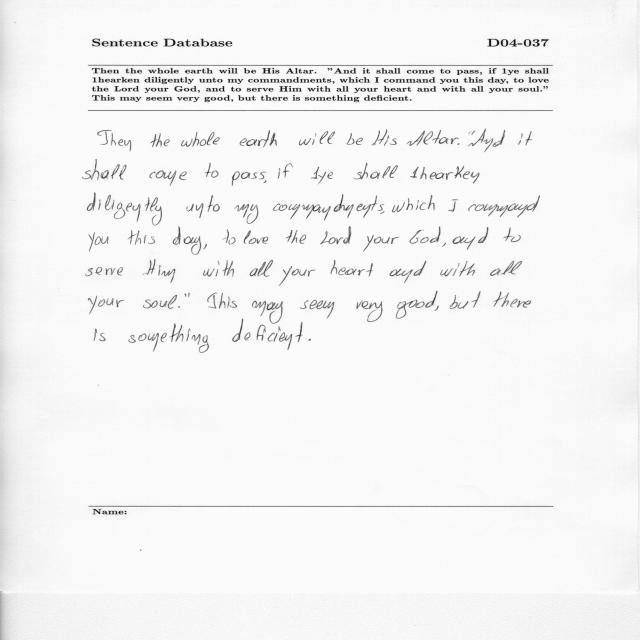word: (273, 194, 384, 221), (128, 323, 209, 353), (87, 193, 162, 225), (233, 323, 303, 350), (468, 195, 540, 218), (396, 291, 438, 319), (410, 166, 479, 183), (242, 301, 283, 324), (83, 160, 127, 181), (469, 129, 506, 152), (406, 130, 459, 146), (453, 227, 489, 250), (173, 226, 201, 255), (390, 261, 426, 283), (186, 196, 220, 219), (300, 300, 334, 323), (392, 195, 435, 213), (143, 259, 175, 283), (354, 163, 398, 180), (279, 266, 316, 286), (98, 130, 131, 151), (331, 260, 373, 276), (240, 130, 277, 148), (89, 296, 124, 314), (149, 170, 187, 186), (493, 292, 531, 308), (181, 132, 220, 147), (363, 235, 399, 251), (440, 261, 475, 277), (320, 227, 351, 245), (450, 291, 481, 309), (357, 301, 383, 322), (410, 227, 441, 244), (203, 260, 234, 277), (232, 171, 266, 186), (299, 131, 335, 145), (235, 204, 259, 224), (490, 261, 522, 276), (143, 295, 177, 309), (371, 129, 397, 146), (209, 293, 238, 308), (128, 230, 155, 245), (89, 232, 109, 252), (250, 260, 273, 277), (311, 167, 333, 184), (244, 230, 268, 244), (86, 267, 123, 276), (150, 133, 170, 147), (286, 230, 306, 244), (503, 228, 521, 242), (222, 230, 236, 245), (346, 133, 363, 145), (518, 131, 532, 145), (205, 163, 218, 178), (178, 293, 190, 308), (282, 163, 293, 178), (94, 329, 106, 341), (448, 199, 459, 212), (207, 293, 217, 302), (434, 305, 439, 311), (278, 168, 280, 178), (203, 244, 207, 249), (442, 242, 446, 247), (380, 211, 384, 214), (458, 143, 460, 145), (468, 133, 470, 135), (309, 339, 311, 341)
